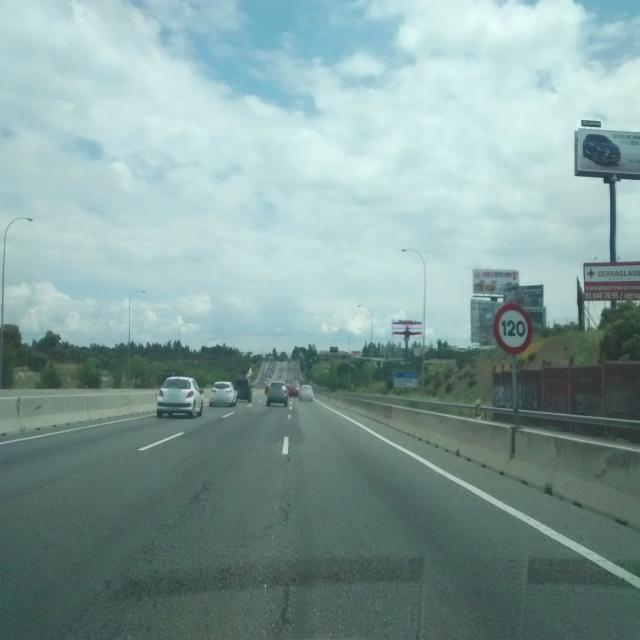car: (156, 376, 204, 419), (209, 381, 237, 407), (265, 381, 289, 407), (233, 377, 253, 403), (298, 385, 314, 402), (288, 384, 299, 398)
